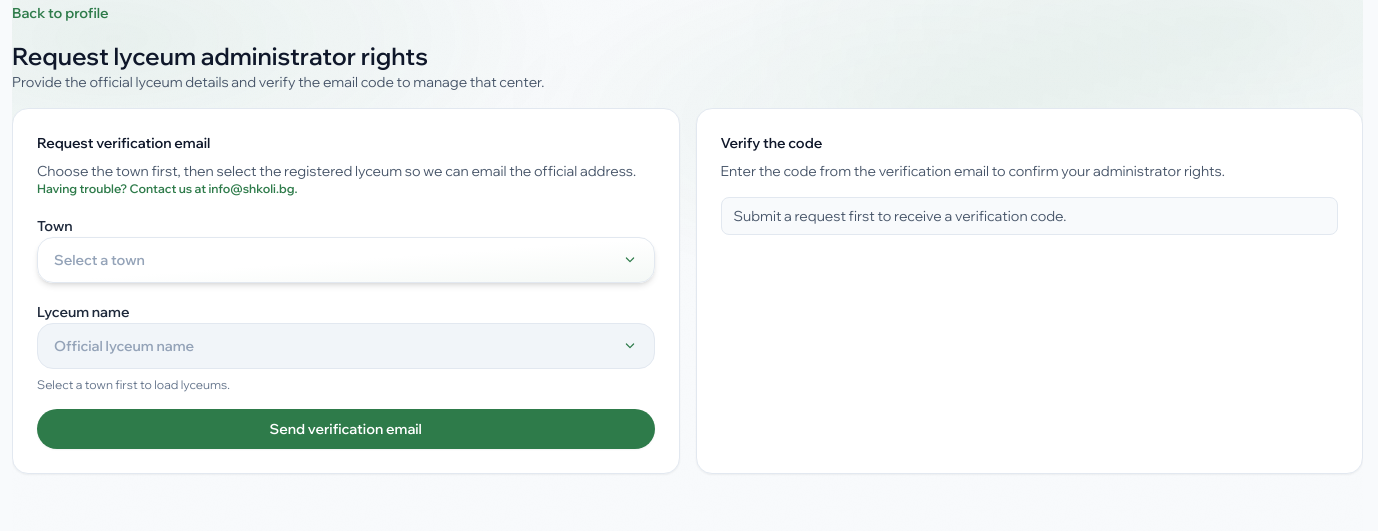
it: LyceumRightsPage (request flow) › shows validation errors when submitting empty form
Click the button "Send verification email": (346, 429) [37,409,654,449]
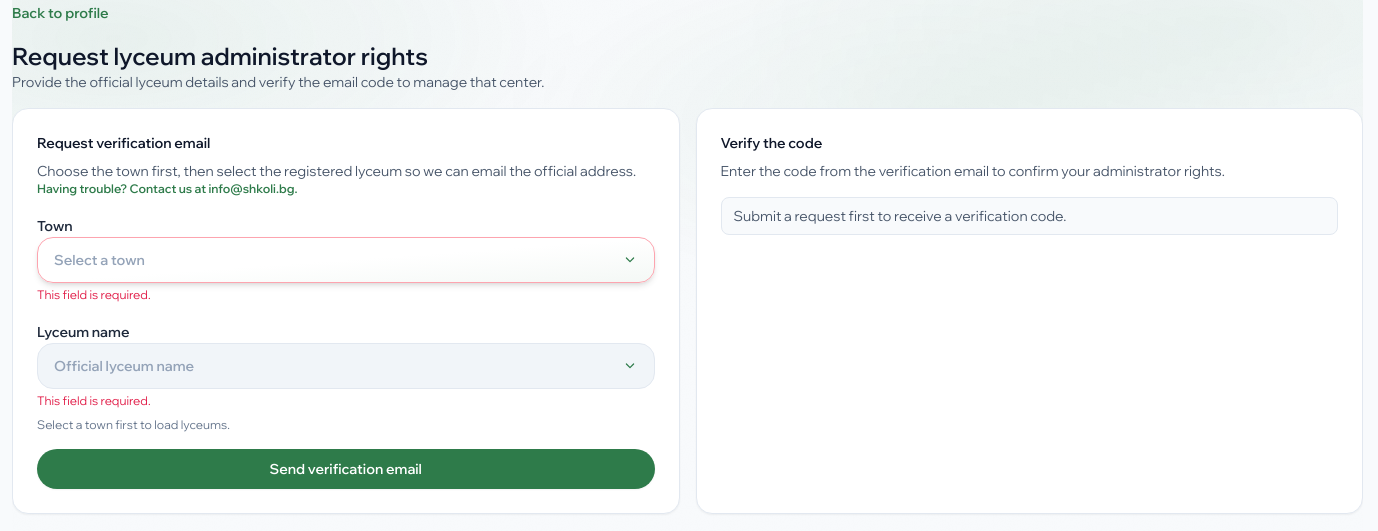
Result: the text "This field is required." is shown 2 times at [37,287,151,302]; [37,393,151,408]
